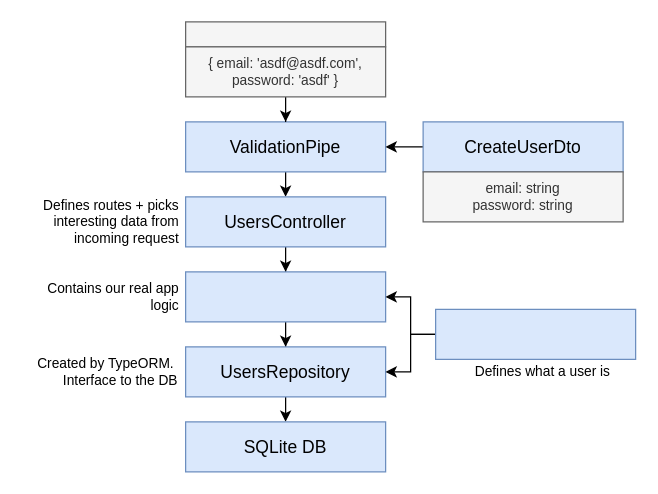
The diagram is 658 pixels wide and 494 high, and some of its shapes have lost their labels. Each missing label, with the box of its shape:
Request: (184, 21, 386, 47)
User Entity: (434, 308, 636, 359)
UsersService: (184, 271, 386, 322)
